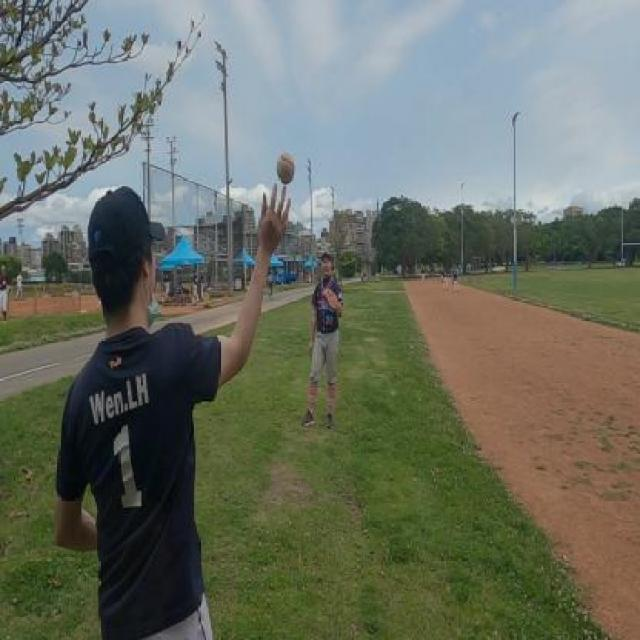baseball: (276, 152, 295, 186)
